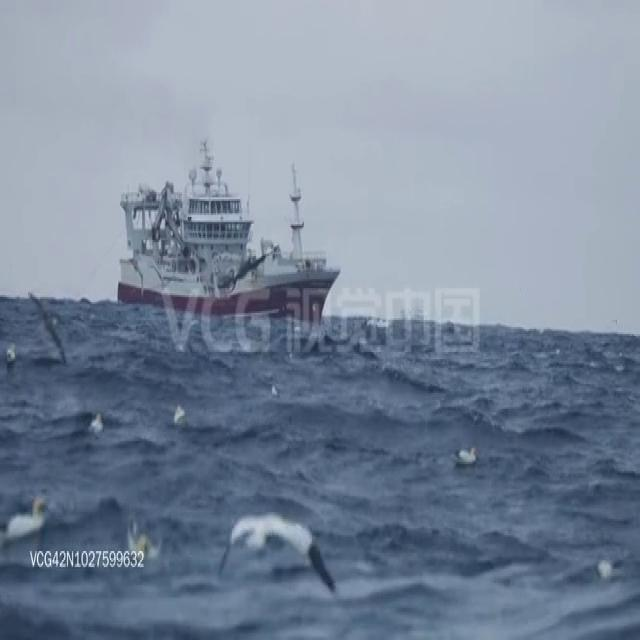passenger ship: (112, 134, 338, 322)
